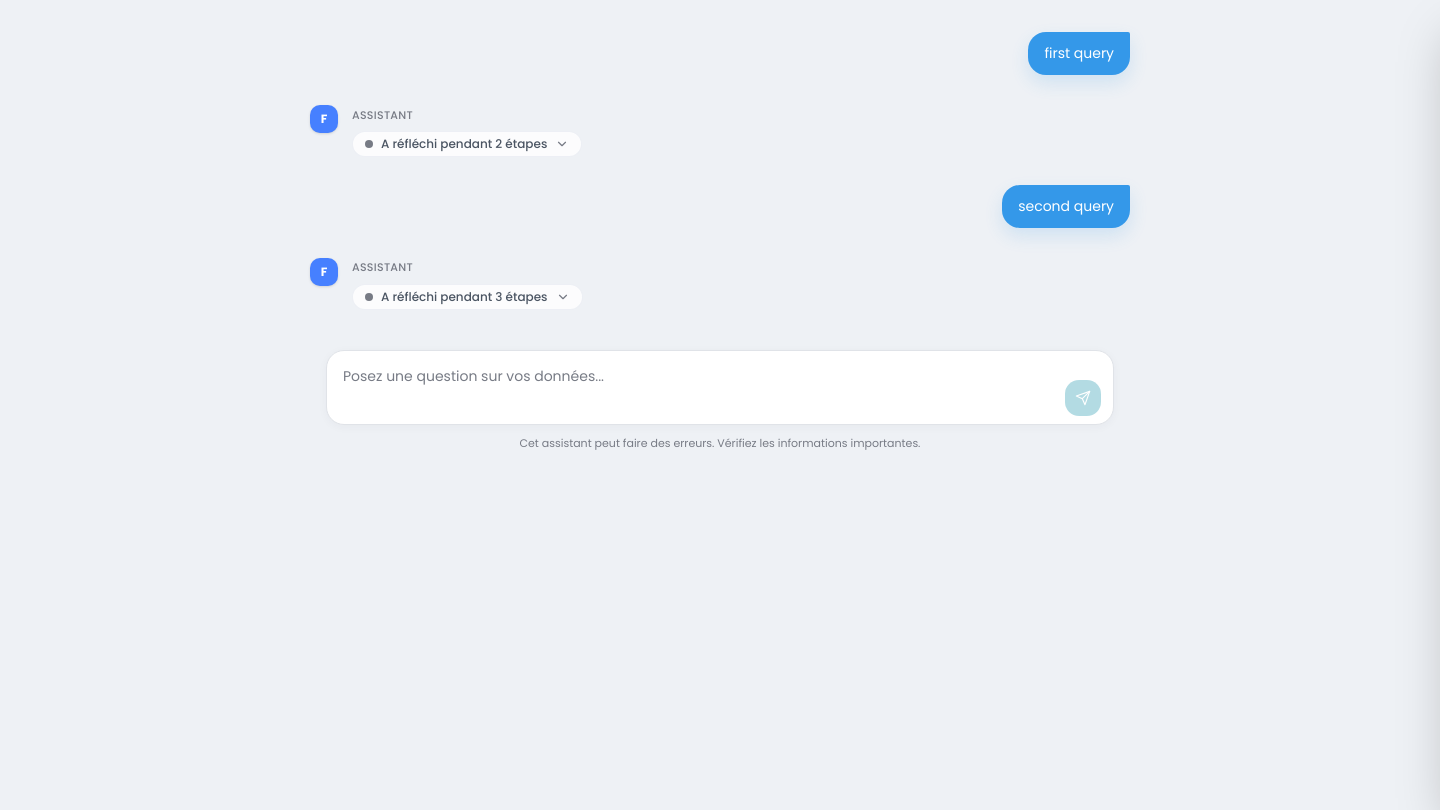
Test case: ChatPage drawer per-message thinking › switches to another message strip without closing when already open
This screenshot has width=1440, height=810.
Click the button "A réfléchi pendant 2 étapes": (467, 144) [352,131,582,157]
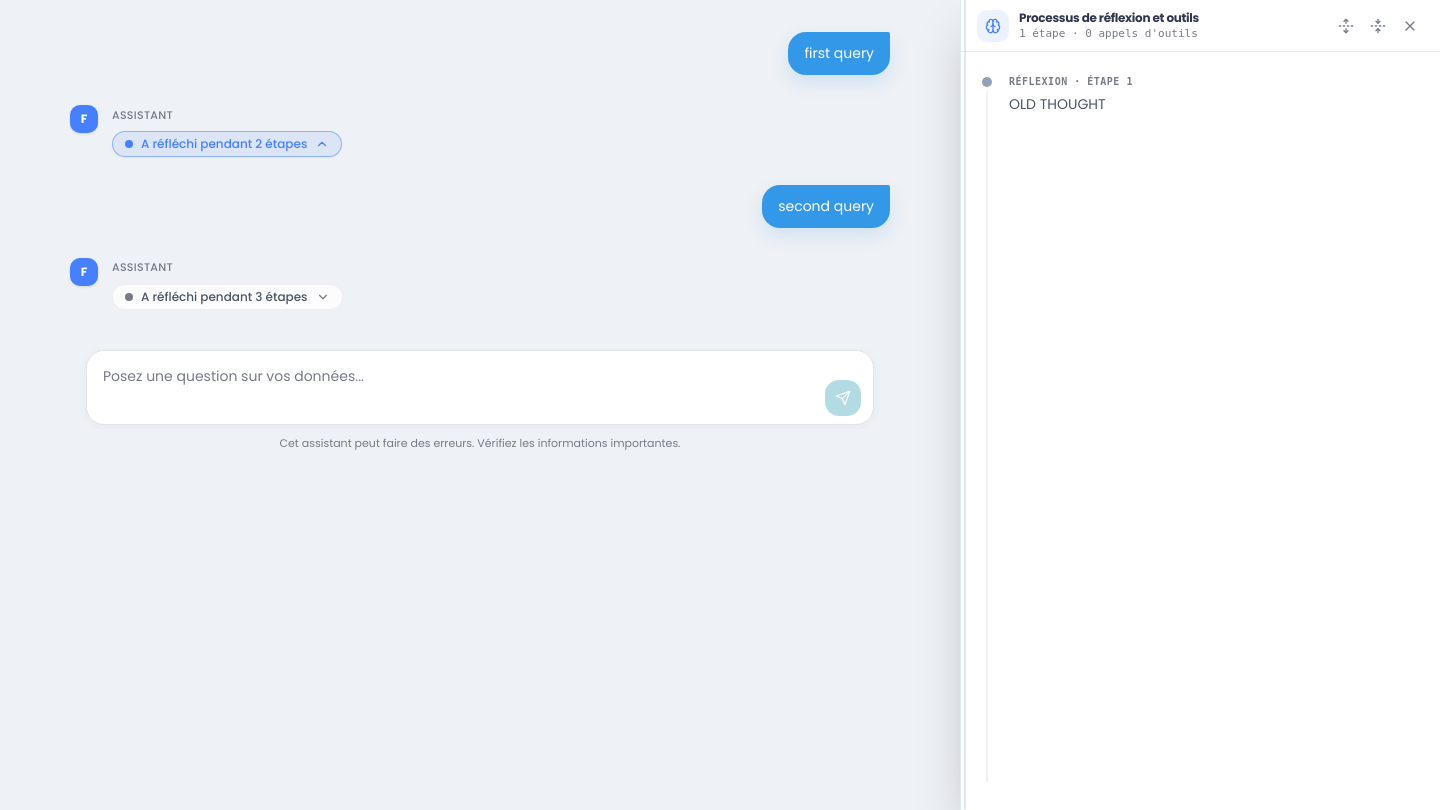
Check: the text "OLD THOUGHT" is shown, box [1009,94,1106,114]
Click the button "A réfléchi pendant 3 étapes": (227, 296) [112,284,342,310]
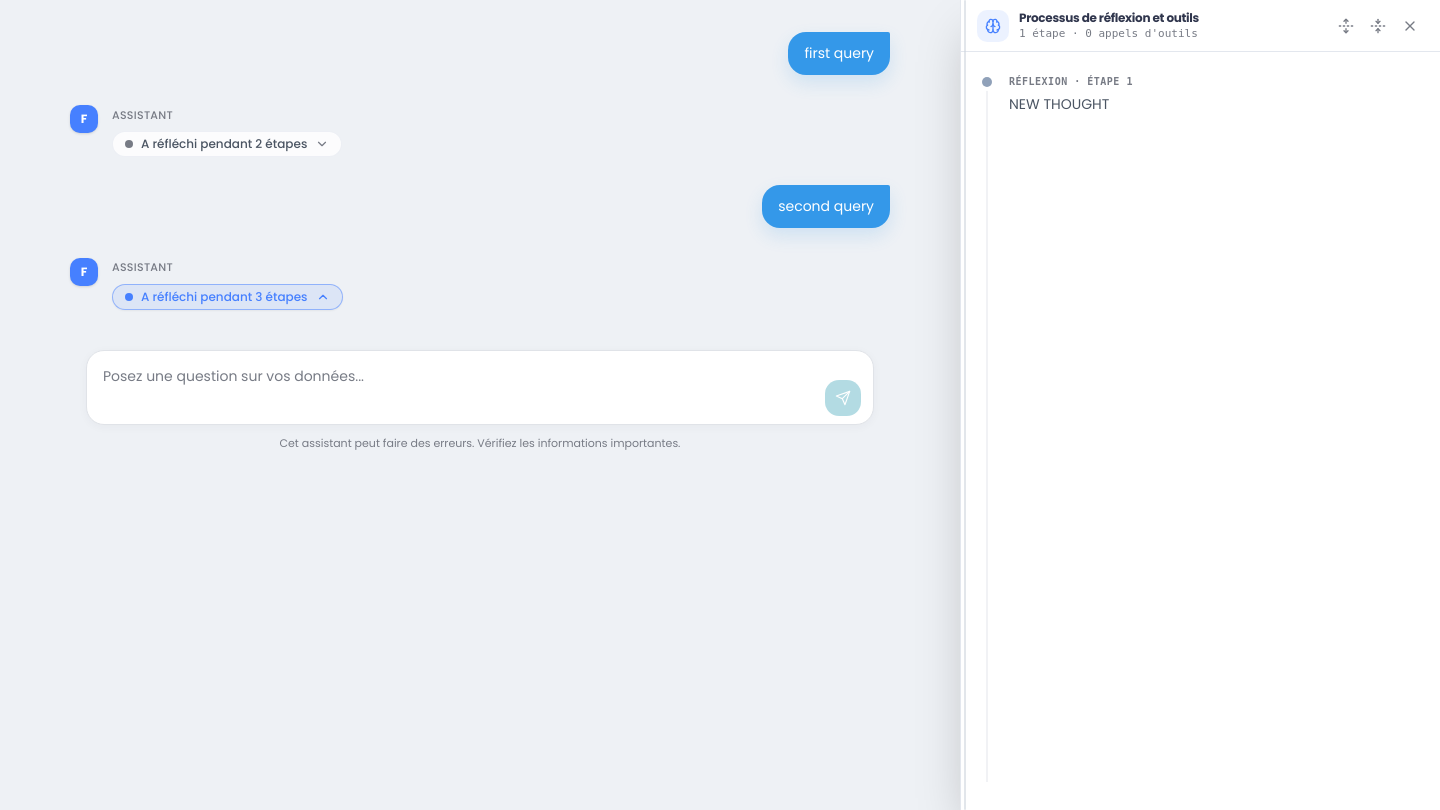
Check: the text "NEW THOUGHT" is shown, box [1009,94,1109,114]
Check: the text "OLD THOUGHT" is gone
